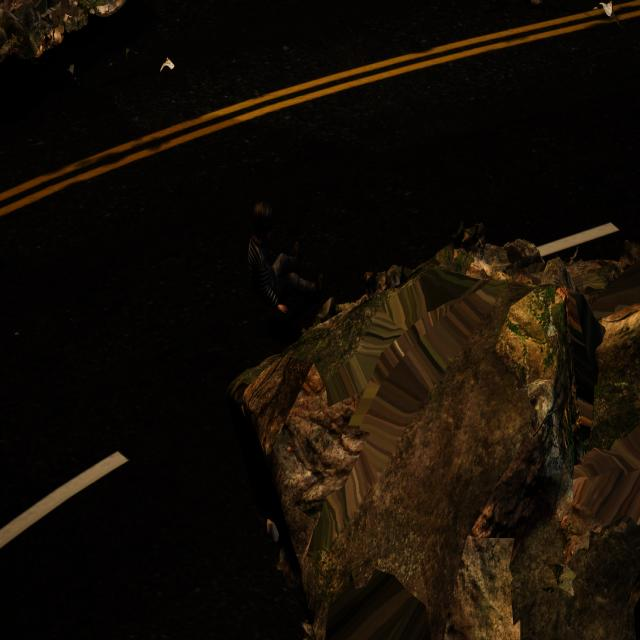Human: (237, 191, 331, 351)
